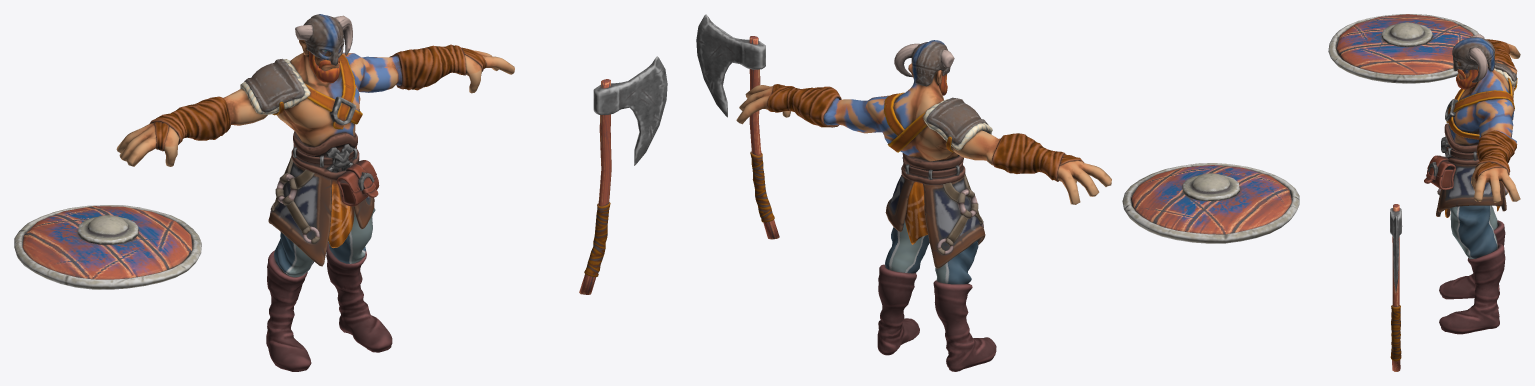
The model's file is viking_warrior.glb.
The picture shows the model from 3 angles, left to right: view 1: azimuth 30°, elevation 25°; view 2: azimuth 150°, elevation 25°; view 3: azimuth 270°, elevation 25°; orthographic projection. The views are drawn at different scales.
Parts seen in each view (by area): view 1: khien3_low, body_low, giay_low, bangtay1_low, luoiriu_low, quan3_low, khien2_low, quan_low, giapvai_low, khien1_low, mu_low, daibung_low (+8 smaller); view 2: body_low, khien3_low, giay_low, bangtay1_low, luoiriu_low, quan3_low, khien2_low, quan_low, giapvai_low, khien1_low, mu_low, daibung_low (+7 smaller); view 3: khien3_low, body_low, giay_low, quan_low, khien2_low, bangtay1_low, quan2_low, khien1_low, mu_low, luoiriu_low, da1_low, daibung_low (+10 smaller).
Part boxes in pixels (x1=…): khien3_low: x1=22, y1=206, x2=192, y2=279; body_low: x1=116, y1=40, x2=514, y2=274; giay_low: x1=266, y1=243, x2=392, y2=371; bangtay1_low: x1=149, y1=44, x2=465, y2=144; luoiriu_low: x1=593, y1=56, x2=667, y2=165; quan3_low: x1=268, y1=161, x2=331, y2=266; khien2_low: x1=14, y1=205, x2=201, y2=289; quan_low: x1=274, y1=208, x2=375, y2=277; giapvai_low: x1=244, y1=58, x2=304, y2=112; khien1_low: x1=78, y1=215, x2=138, y2=244; mu_low: x1=304, y1=14, x2=344, y2=65; daibung_low: x1=291, y1=131, x2=359, y2=180; body_low: x1=736, y1=63, x2=1111, y2=204; khien3_low: x1=1131, y1=165, x2=1291, y2=234; giay_low: x1=877, y1=264, x2=996, y2=371; bangtay1_low: x1=767, y1=86, x2=1065, y2=181; luoiriu_low: x1=696, y1=14, x2=765, y2=117; quan3_low: x1=923, y1=175, x2=985, y2=268; khien2_low: x1=1122, y1=163, x2=1299, y2=243; quan_low: x1=885, y1=220, x2=978, y2=284; giapvai_low: x1=926, y1=97, x2=988, y2=144; khien1_low: x1=1182, y1=173, x2=1239, y2=201; mu_low: x1=911, y1=40, x2=950, y2=86; daibung_low: x1=901, y1=153, x2=965, y2=184; khien3_low: x1=1336, y1=14, x2=1473, y2=75; body_low: x1=1449, y1=40, x2=1520, y2=202; giay_low: x1=1439, y1=220, x2=1505, y2=334; quan_low: x1=1449, y1=171, x2=1497, y2=258; khien2_low: x1=1328, y1=14, x2=1478, y2=83; bangtay1_low: x1=1475, y1=40, x2=1517, y2=175; quan2_low: x1=1438, y1=164, x2=1502, y2=212; khien1_low: x1=1381, y1=22, x2=1432, y2=46; mu_low: x1=1452, y1=37, x2=1495, y2=71; luoiriu_low: x1=1390, y1=208, x2=1402, y2=292; da1_low: x1=1446, y1=90, x2=1514, y2=122; daibung_low: x1=1444, y1=123, x2=1479, y2=165.
Bounding box in the file's own units: 32.75 × 16.38 × 10.37.
1 material, 1 textured.
